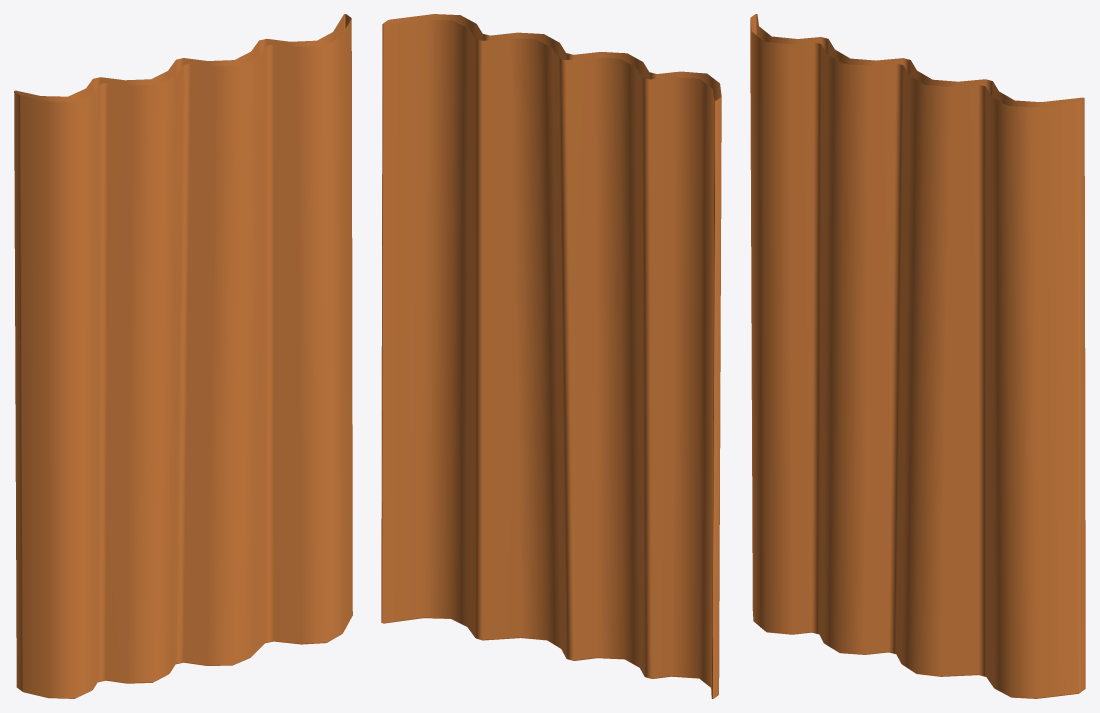
The model's file is Curtains_4.glb.
3 renders of one model, left to right at view 1: azimuth 30°, elevation 25°; view 2: azimuth 150°, elevation 25°; view 3: azimuth 330°, elevation 25°, orthographic.
Parts seen in each view (by area): view 1: Curtains_4; view 2: Curtains_4; view 3: Curtains_4.
Boxes of the visible parts, <box> form: Curtains_4: <box>14,14,352,698</box>; Curtains_4: <box>381,14,721,698</box>; Curtains_4: <box>750,14,1085,698</box>.
Size of the model in its own units: 0.8565 by 1.48 by 0.1305.
1 material, 1 textured.
